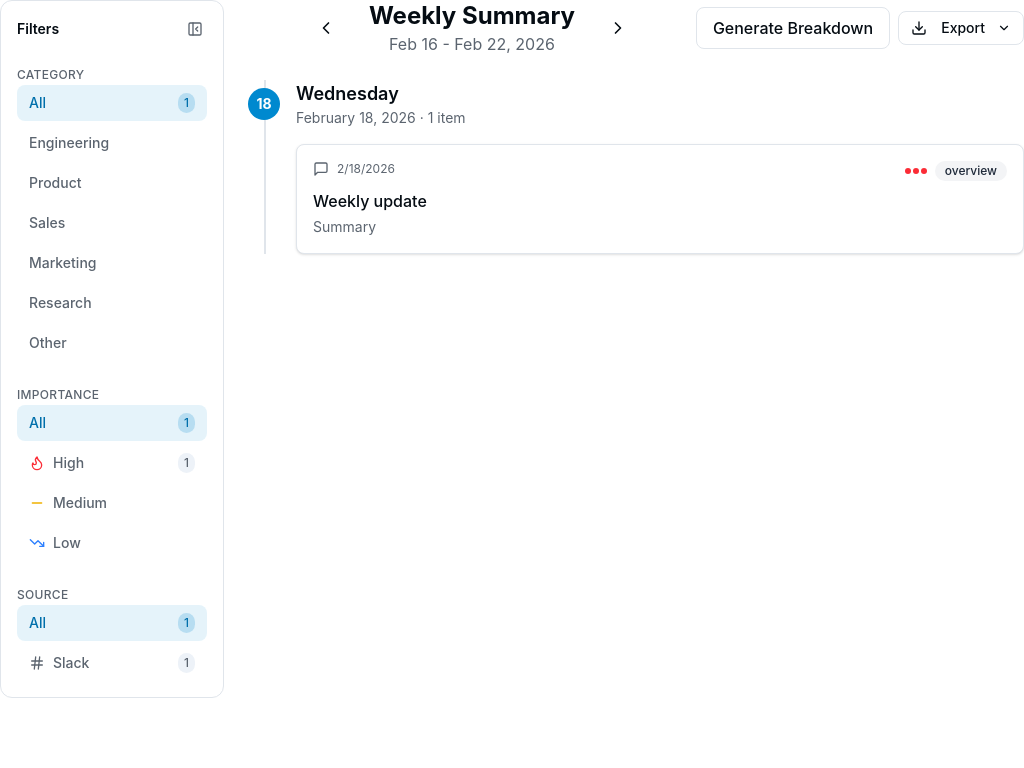
it: WeeklySummaryView breakdown flow › shows failure message when copy fails
This screenshot has width=1024, height=768.
Click the button "Generate Breakdown" at [793, 28], box [696, 7, 890, 49]
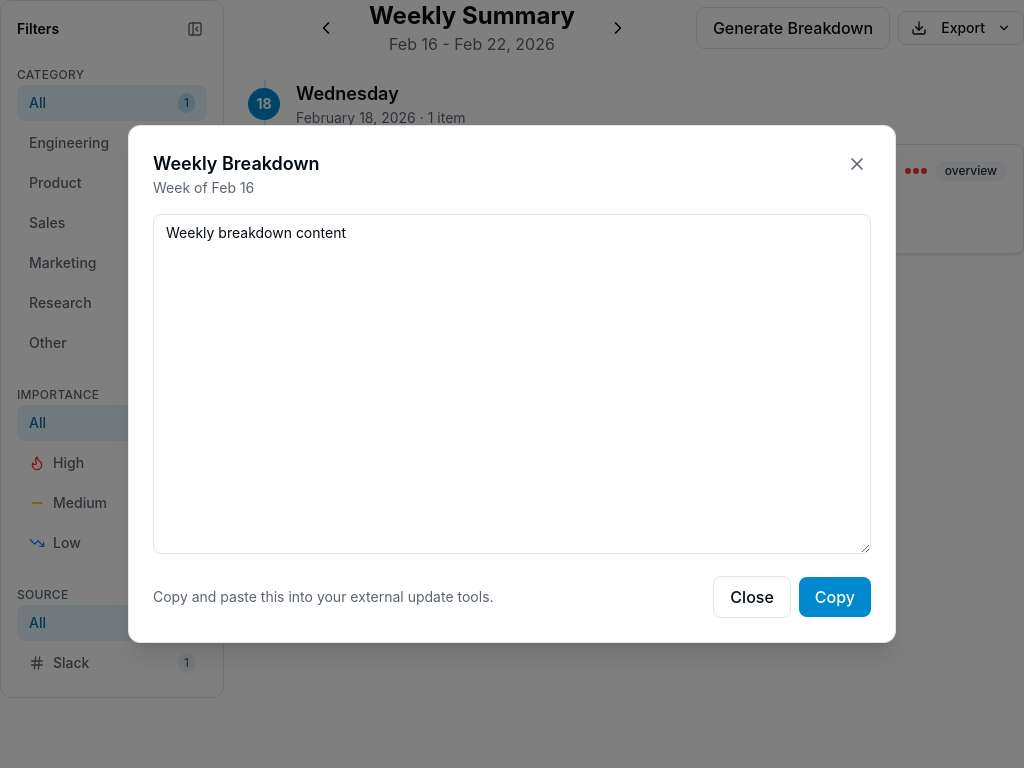
Now the heading "Weekly Breakdown" is shown, box [153, 150, 320, 178]
Click the button "Copy" at [835, 597], box [799, 577, 871, 617]
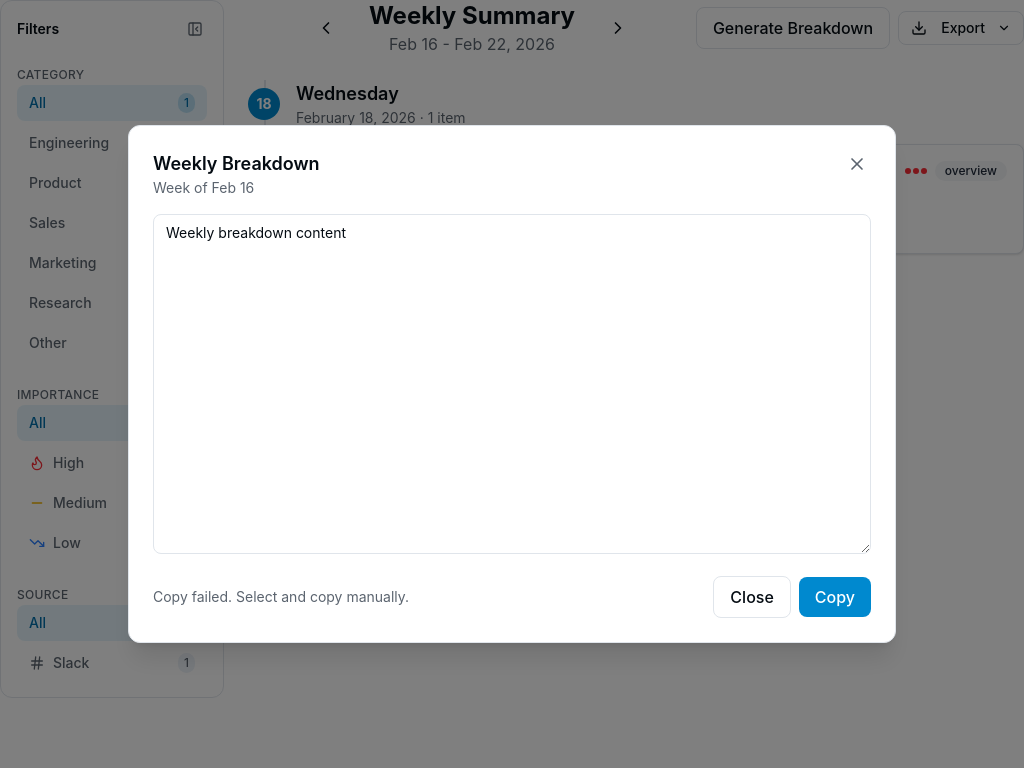
Now the text "Copy failed. Select and copy manually." is shown, box [153, 587, 409, 607]
